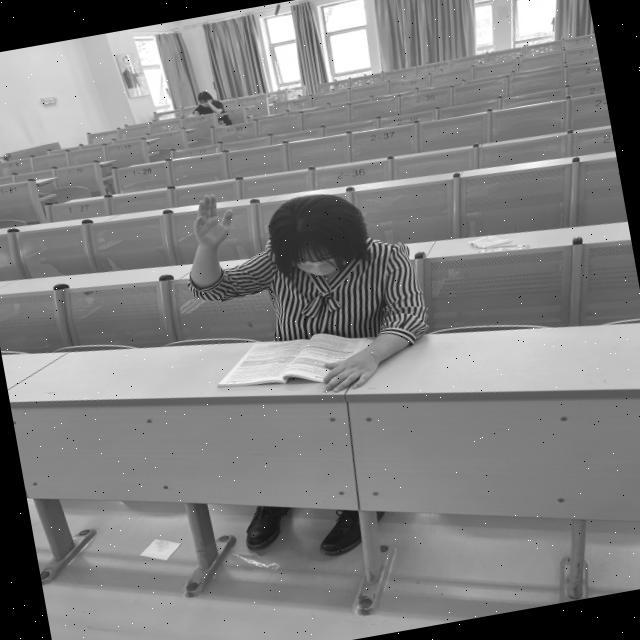study: (173, 160, 438, 415)
